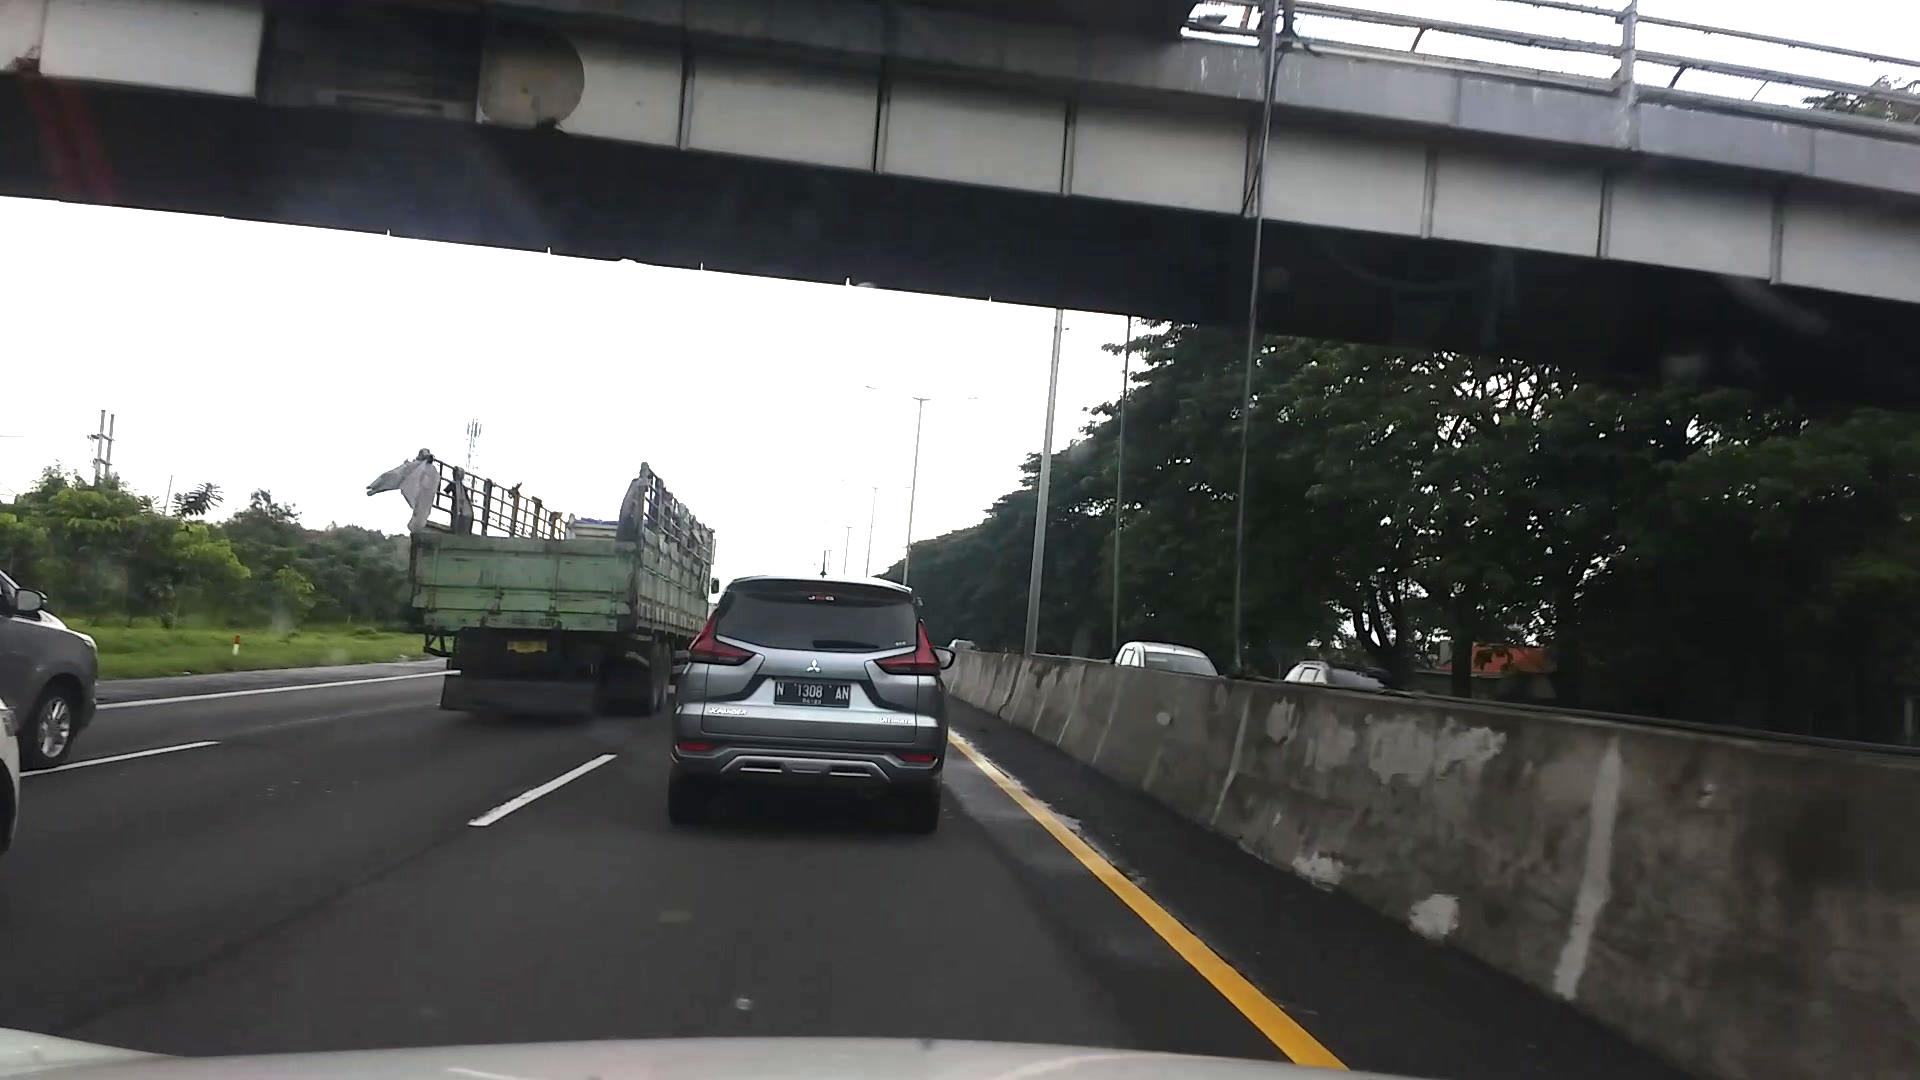plate_positive: (774, 680, 851, 707)
